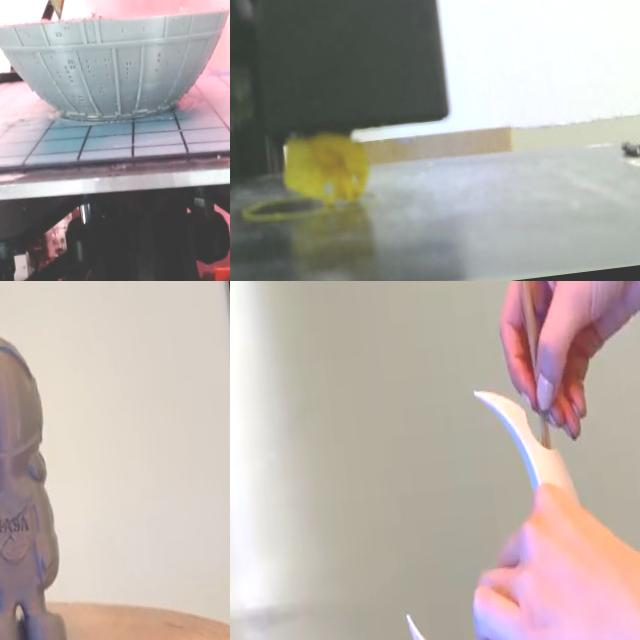spaghetti: (283, 132, 369, 204)
